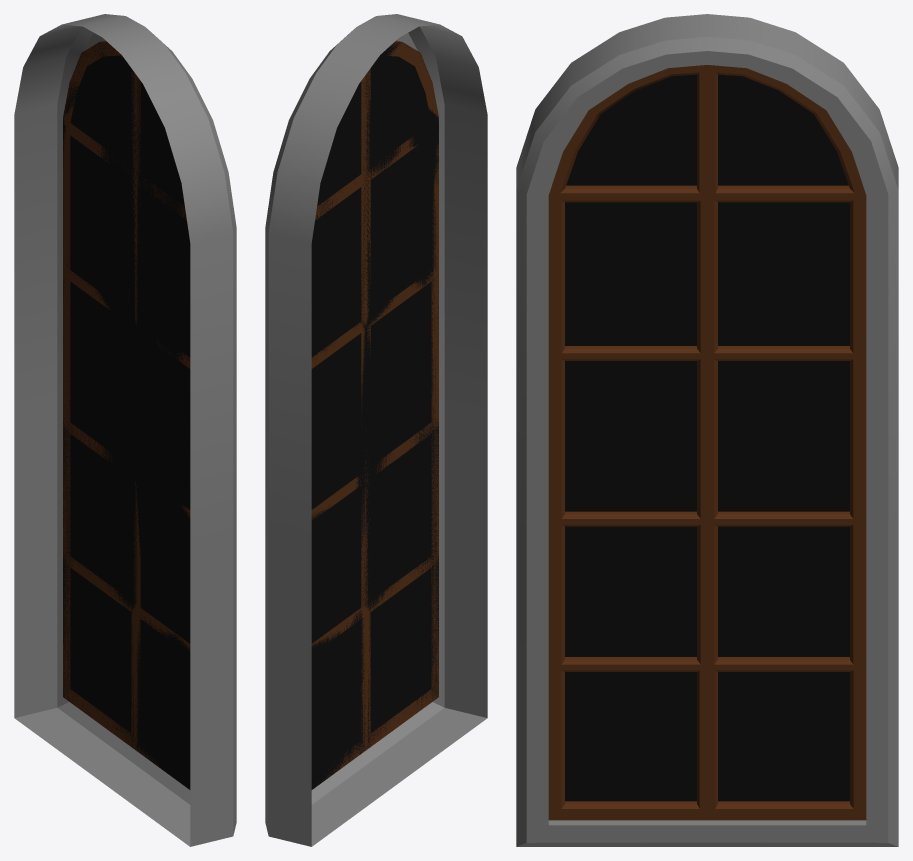
File: Window_TooTall.fbx
3 renders of one model, left to right at view 1: azimuth 30°, elevation 25°; view 2: azimuth 150°, elevation 25°; view 3: azimuth 270°, elevation 25°, orthographic. The views are drawn at different scales.
Visible parts, largest first — view 1: Window; view 2: Window; view 3: Window.
Boxes of the visible parts, <box> form: Window: <box>14,14,236,846</box>; Window: <box>265,14,487,846</box>; Window: <box>516,14,898,846</box>.
Bounding box in the file's own units: 12.59 × 176 × 75.16.
